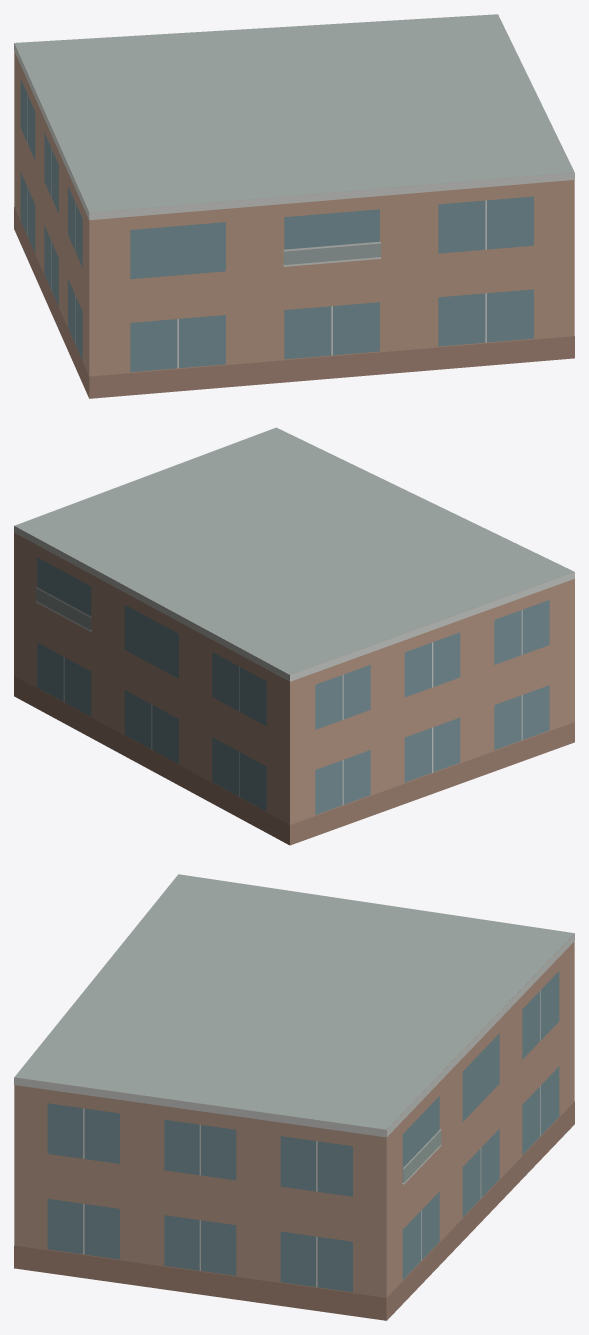
Rendered from survey-upis-32884866.glb.
The picture shows the model from 3 angles, top to bottom: view 1: azimuth 30°, elevation 25°; view 2: azimuth 150°, elevation 25°; view 3: azimuth 270°, elevation 25°; orthographic projection. The views are drawn at different scales.
Visible parts, largest first — view 1: survey-upis-32884866.tmp; view 2: survey-upis-32884866.tmp; view 3: survey-upis-32884866.tmp.
Boxes of the visible parts, left/top/right/bottom form: survey-upis-32884866.tmp: left=14, top=14, right=574, bottom=398; survey-upis-32884866.tmp: left=14, top=427, right=574, bottom=845; survey-upis-32884866.tmp: left=14, top=874, right=574, bottom=1320.
Bounding box in the file's own units: 17.53 × 6.1 × 16.24.
